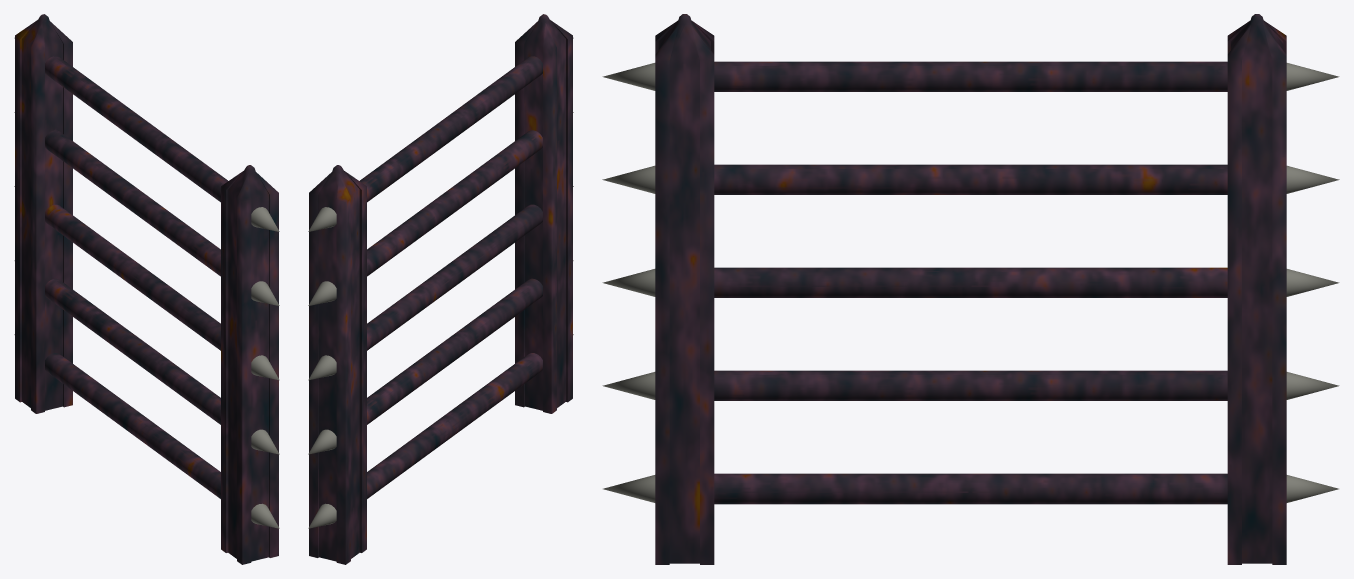
The model's file is CA_015_iron_ladder_var2.glb.
The picture shows the model from 3 angles, left to right: view 1: azimuth 30°, elevation 25°; view 2: azimuth 150°, elevation 25°; view 3: azimuth 270°, elevation 25°; orthographic projection. The views are drawn at different scales.
Parts seen in each view (by area): view 1: ladder_support, ladder_bars, spikes; view 2: ladder_support, ladder_bars, spikes; view 3: ladder_bars, ladder_support, spikes.
Part boxes in pixels (x1,y1,x2,y2): ladder_support: (15, 14, 278, 564); ladder_bars: (45, 56, 227, 498); spikes: (14, 37, 279, 528); ladder_support: (309, 14, 572, 564); ladder_bars: (360, 56, 542, 498); spikes: (308, 37, 573, 528); ladder_bars: (714, 61, 1227, 504); ladder_support: (655, 14, 1286, 564); spikes: (602, 63, 1339, 502).
Size of the model in its own units: 0.18 by 1.81 by 2.25.
2 materials, 1 textured.
